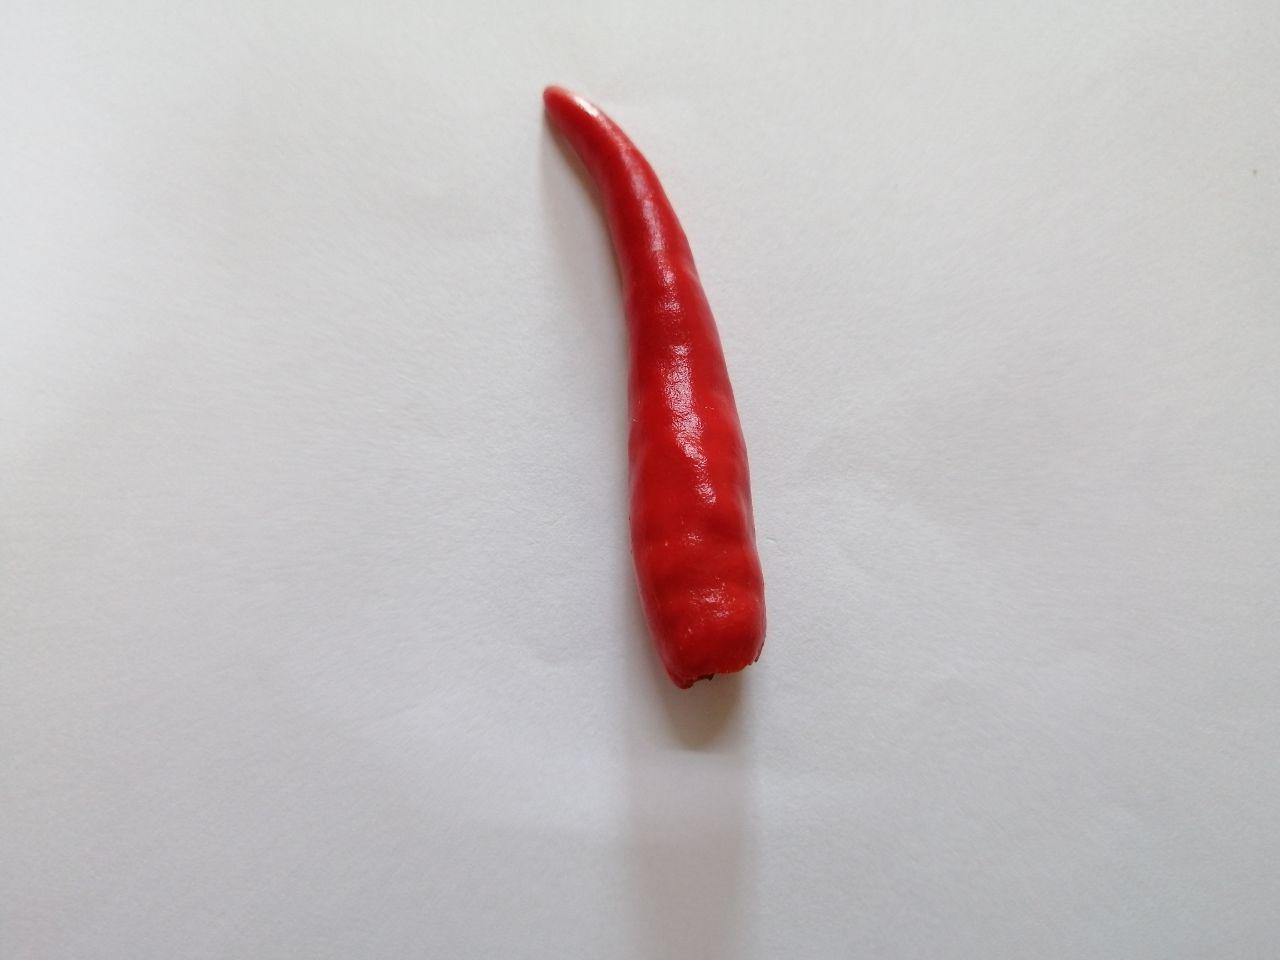lada merah: (519, 81, 794, 709)
